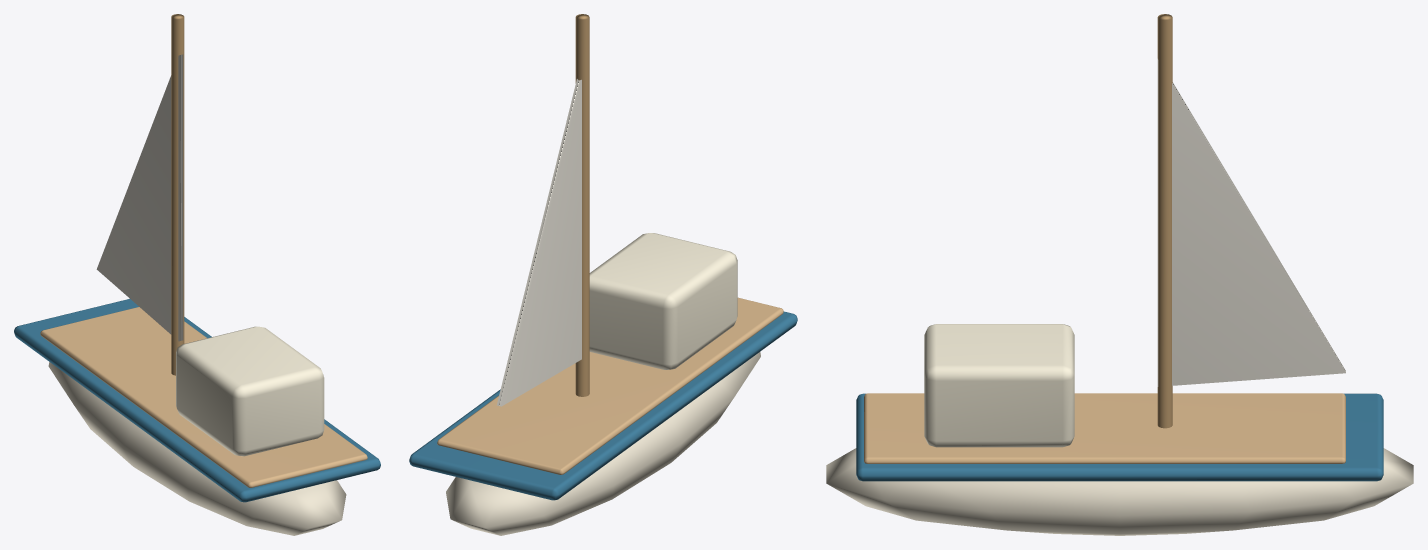
File: boat.glb
3 views of the same model, side by side, from view 1: azimuth 30°, elevation 25°; view 2: azimuth 150°, elevation 25°; view 3: azimuth 270°, elevation 25° (orthographic). The views are drawn at different scales.
Size of the model in its own units: 1.3 by 3.65 by 3.9.
